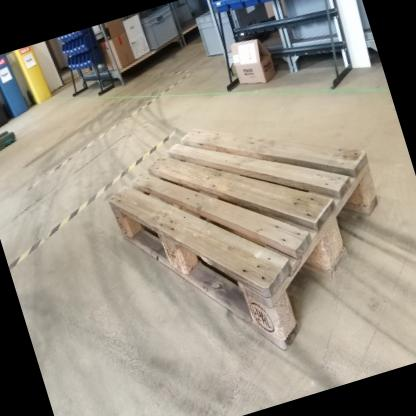BoxFace: (103, 122, 381, 357)
